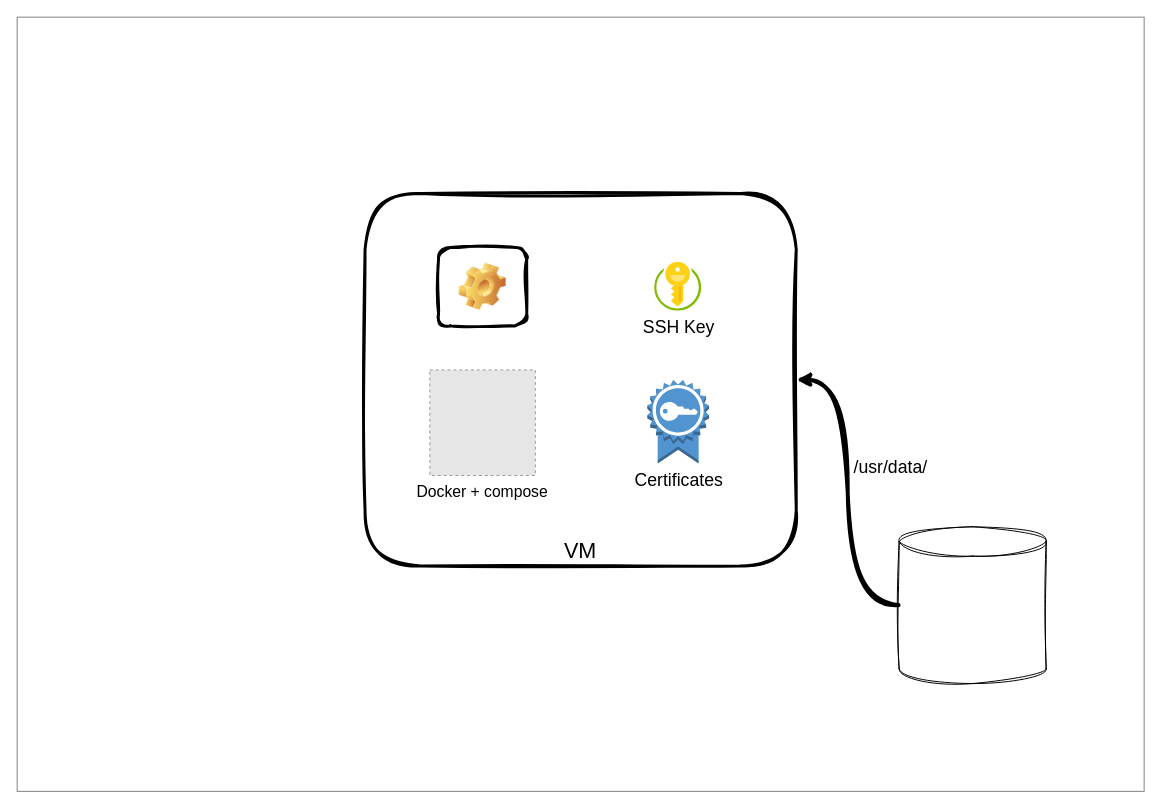
This 1161x809 diagram has some shape labels left out. Grey dashed boxes stand in for pictures. The box of each missing label's shape, as (x1, y1, x2, y2) in pixels:
Configuration de base: (437, 245, 528, 327)
Disque data chiffré: (898, 526, 1046, 684)
